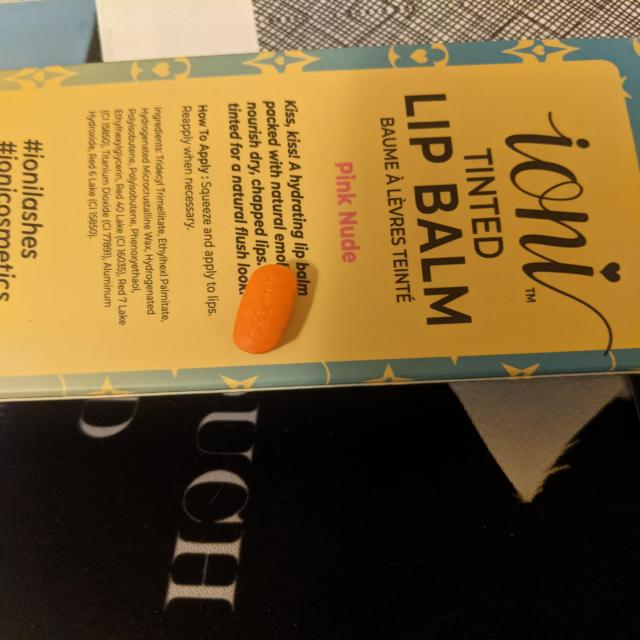non-organic waste: (231, 263, 299, 355)
